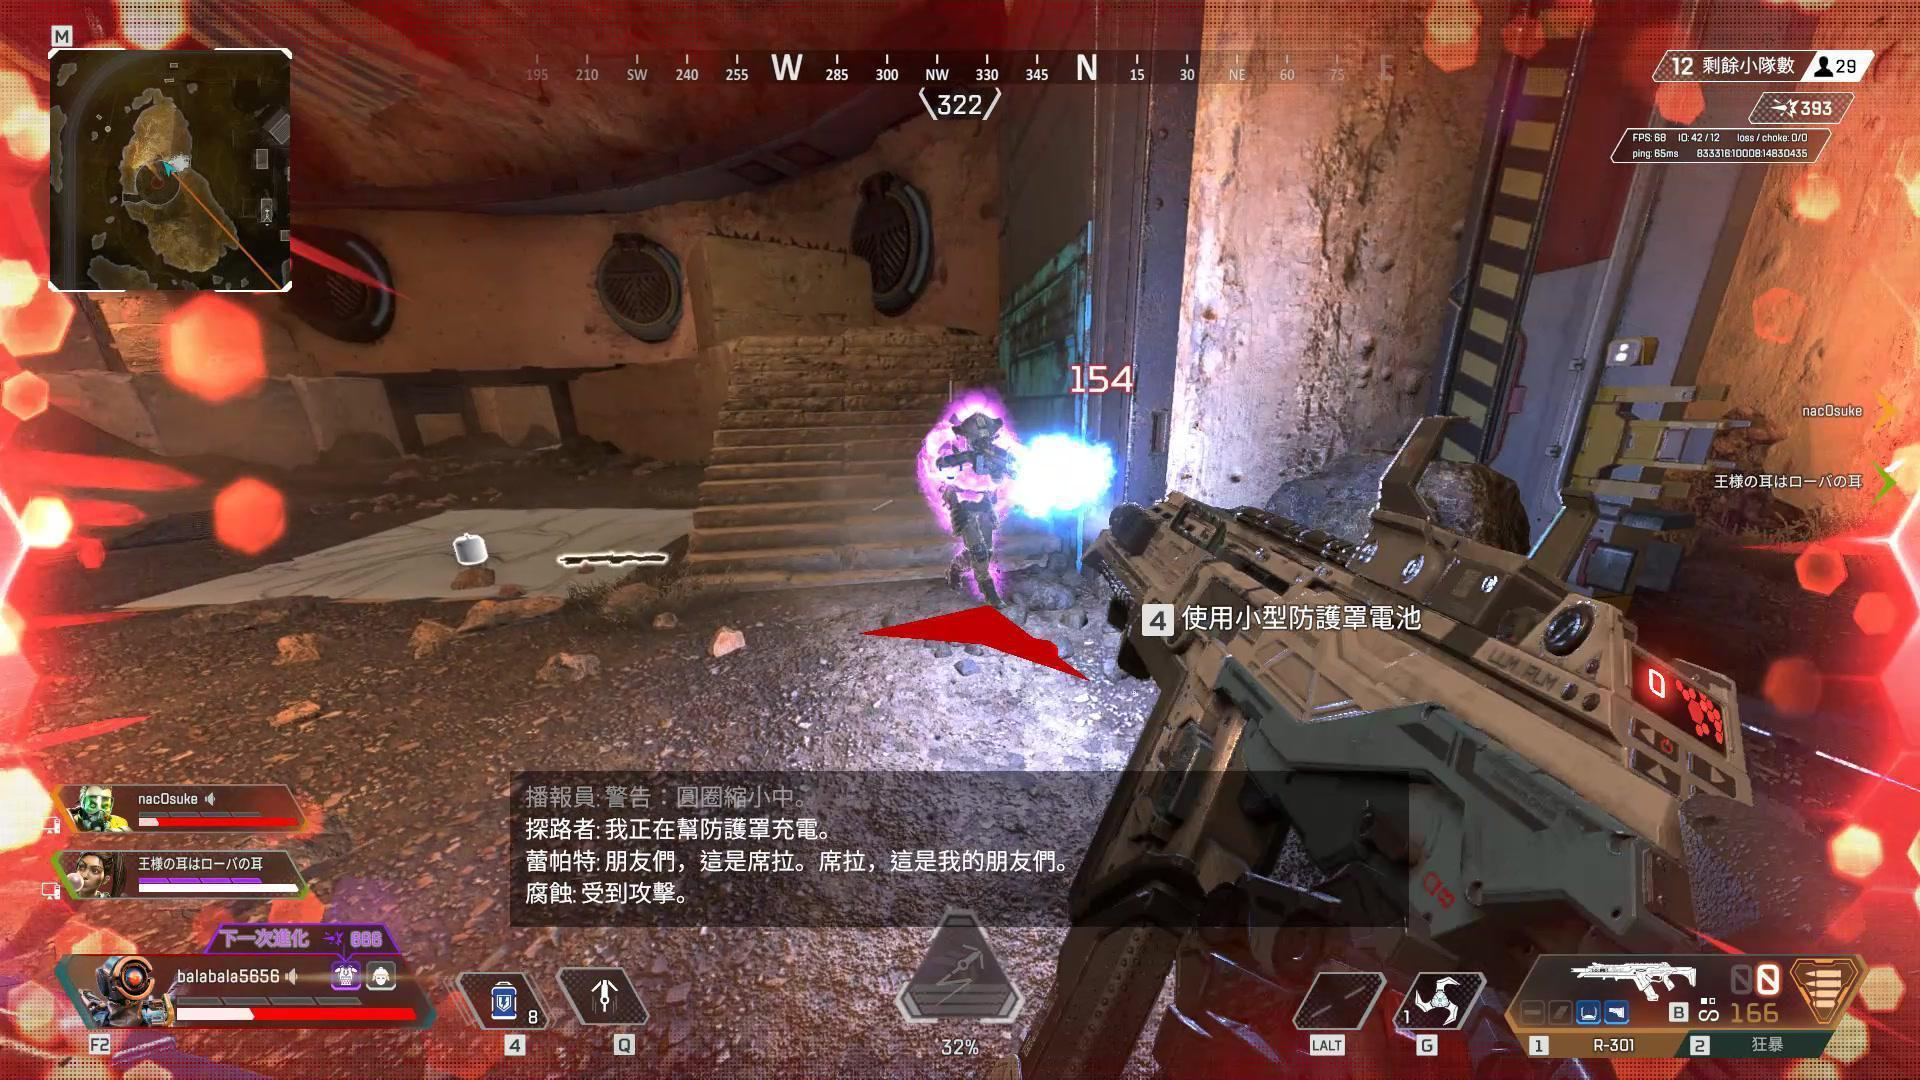avatar: (932, 406, 1016, 610)
object: (1006, 429, 1121, 524)
